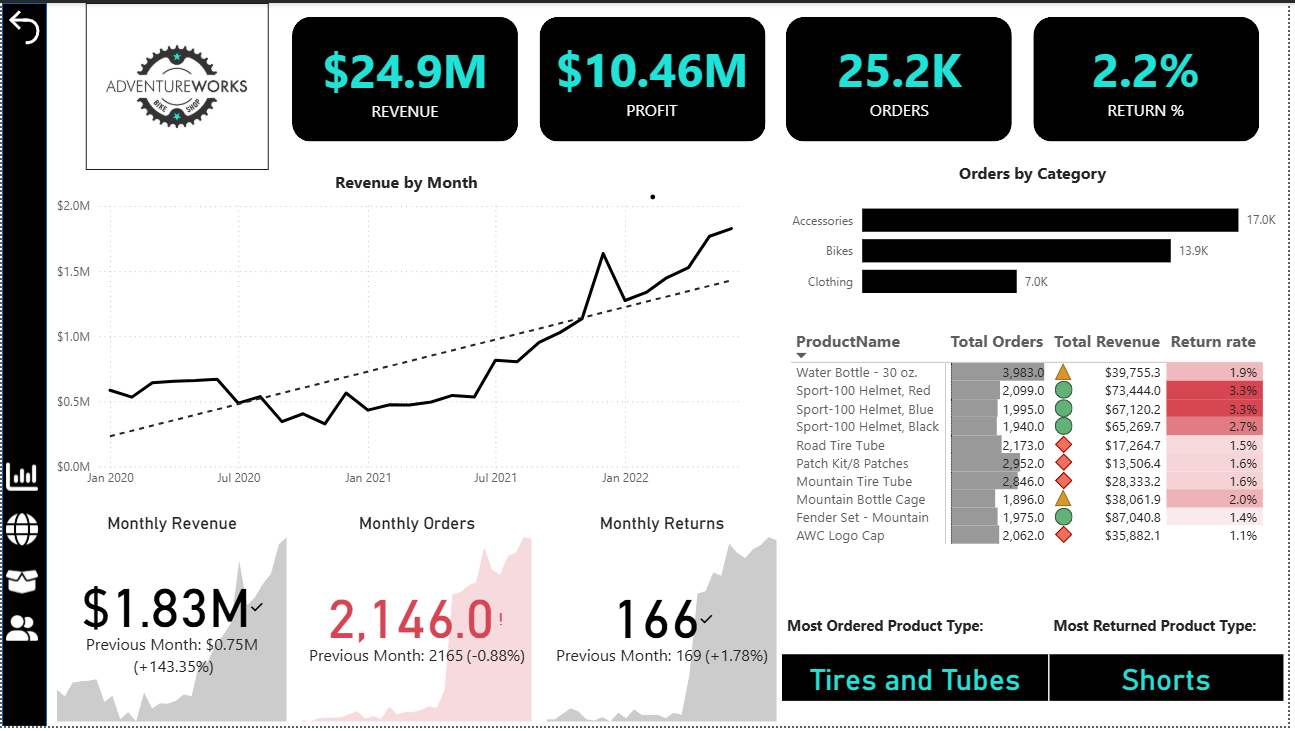

The page's visual inventory and layout, read from the dashboard file:
{"tool":"powerbi","page":{"name":"Exec Dashboard","canvas":[1280,720],"ordinal":0},"visuals":[{"type":"shape","box":[1026.3,13.7,225.2,124.4],"z":0},{"type":"shape","box":[534.5,13.7,225.2,124.4],"z":1000},{"type":"shape","box":[780.4,13.7,225.2,124.4],"z":2000},{"type":"shape","box":[288.6,13.7,225.2,124.4],"z":3000},{"type":"image","box":[83.3,0,182.1,166.7],"z":4000},{"type":"shape","box":[0,0,44.8,720.3],"z":5000},{"type":"card","fields":{"Values":["Measure Table.Total Revenue"]},"box":[271.2,7.5,260,136.8],"z":6000},{"type":"card","fields":{"Values":["Measure Table.Return rate"]},"box":[1009,6.4,259,137.2],"z":7000},{"type":"card","fields":{"Values":["Measure Table.Total Orders"]},"box":[764.1,6.4,259,137.2],"z":8000},{"type":"card","fields":{"Values":["Measure Table.Total Profit"]},"box":[517.9,6.4,259,137.2],"z":9000},{"type":"lineChart","fields":{"Category":["Calendar Lookup.Start of Month"],"Y":["Measure Table.Total Revenue"]},"box":[49.8,166.7,705.3,324.7],"z":10000},{"type":"barChart","fields":{"Category":["Product Categories Lookup.CategoryName"],"Y":["Measure Table.Total Orders"]},"box":[776.2,158,498.8,149.3],"z":11000},{"type":"pivotTable","fields":{"Rows":["Product Lookup.ProductName"],"Values":["Measure Table.Total Orders","Measure Table.Total Revenue","Measure Table.Return rate"]},"box":[780,319.7,487.6,237.6],"z":12000},{"type":"kpi","title":"Monthly Revenue","fields":{"Indicator":["Measure Table.Total Revenue"],"Goal":["Measure Table.Previous Month Profit"],"TrendLine":["Calendar Lookup.Start of Month"]},"box":[49.8,507.3,238.8,212.7],"z":13000},{"type":"kpi","title":"Monthly Orders","fields":{"TrendLine":["Calendar Lookup.Start of Month"],"Indicator":["Measure Table.Total Orders"],"Goal":["Measure Table.Previous Month Orders"]},"box":[293.6,507.3,238.8,212.7],"z":14000},{"type":"kpi","title":"Monthly Returns","fields":{"TrendLine":["Calendar Lookup.Start of Month"],"Goal":["Measure Table.Previous Month Returns"],"Indicator":["Measure Table.Total Returns"]},"box":[537.4,507.3,238.8,212.7],"z":15000},{"type":"card","fields":{"Values":["Min(Product Subcategories Lookup.SubcategoryName)"]},"box":[776.2,648.1,265,46],"z":16000},{"type":"card","fields":{"Values":["Min(Product Subcategories Lookup.SubcategoryName)"]},"box":[1042.4,648.1,232.6,46],"z":17000},{"type":"textbox","box":[776.2,604.6,266.2,34.8],"z":18000},{"type":"textbox","box":[1041.2,604.6,238.8,34.8],"z":19000},{"type":"actionButton","box":[0,0,44.8,47.3],"z":20000},{"type":"actionButton","box":[0,451.6,44.8,39.8],"z":21000},{"type":"actionButton","box":[0,556,44.8,39.8],"z":22000},{"type":"actionButton","box":[0,602.1,44.8,39.8],"z":23000},{"type":"actionButton","box":[0,503.8,44.8,39.8],"z":24000}]}

Visuals, with their boxes on the page's 1280x720 design canvas (x1, y1, x2, y2). These are canvas units, not pixel positions in the 1295x731 screenshot, which may show the page scaled, cropped or inside an application window:
shape: select_region(1026, 14, 1252, 138)
shape: select_region(534, 14, 760, 138)
shape: select_region(780, 14, 1006, 138)
shape: select_region(289, 14, 514, 138)
image: select_region(83, 0, 265, 167)
shape: select_region(0, 0, 45, 720)
card - Measure Table.Total Revenue: select_region(271, 8, 531, 144)
card - Measure Table.Return rate: select_region(1009, 6, 1268, 144)
card - Measure Table.Total Orders: select_region(764, 6, 1023, 144)
card - Measure Table.Total Profit: select_region(518, 6, 777, 144)
lineChart - Calendar Lookup.Start of Month x Measure Table.Total Revenue: select_region(50, 167, 755, 491)
barChart - Product Categories Lookup.CategoryName x Measure Table.Total Orders: select_region(776, 158, 1275, 307)
pivotTable - Product Lookup.ProductName x Measure Table.Total Orders: select_region(780, 320, 1268, 557)
"Monthly Revenue" kpi: select_region(50, 507, 289, 720)
"Monthly Orders" kpi: select_region(294, 507, 532, 720)
"Monthly Returns" kpi: select_region(537, 507, 776, 720)
card - Min(Product Subcategories Lookup.SubcategoryName): select_region(776, 648, 1041, 694)
card - Min(Product Subcategories Lookup.SubcategoryName): select_region(1042, 648, 1275, 694)
textbox: select_region(776, 605, 1042, 639)
textbox: select_region(1041, 605, 1280, 639)
actionButton: select_region(0, 0, 45, 47)
actionButton: select_region(0, 452, 45, 491)
actionButton: select_region(0, 556, 45, 596)
actionButton: select_region(0, 602, 45, 642)
actionButton: select_region(0, 504, 45, 544)
